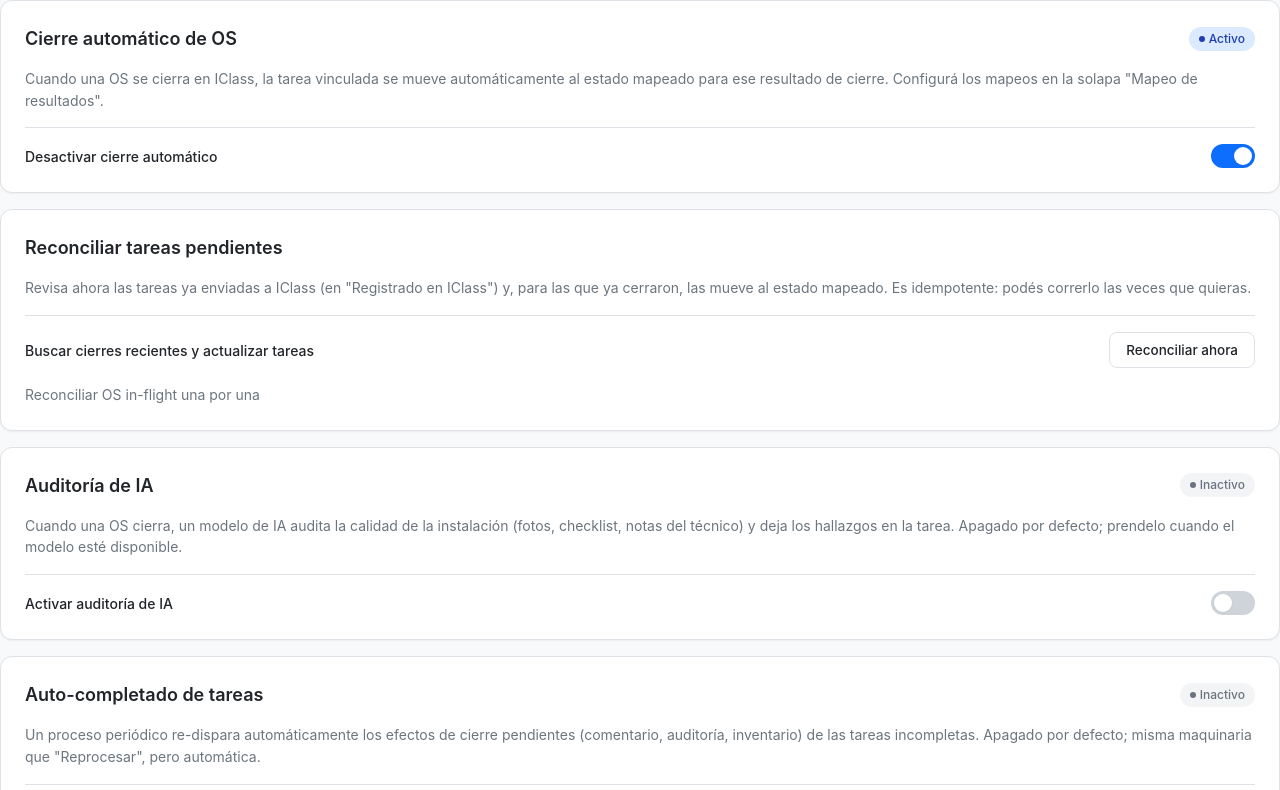
Test case: IClassClosureFlagBody › B1.1 shows "Reconciliación encolada" banner when backfill returns queued:true
The width and height of the screenshot is (1280, 790).
Click the button "Reconciliar ahora": (1182, 350) [1109,332,1255,368]
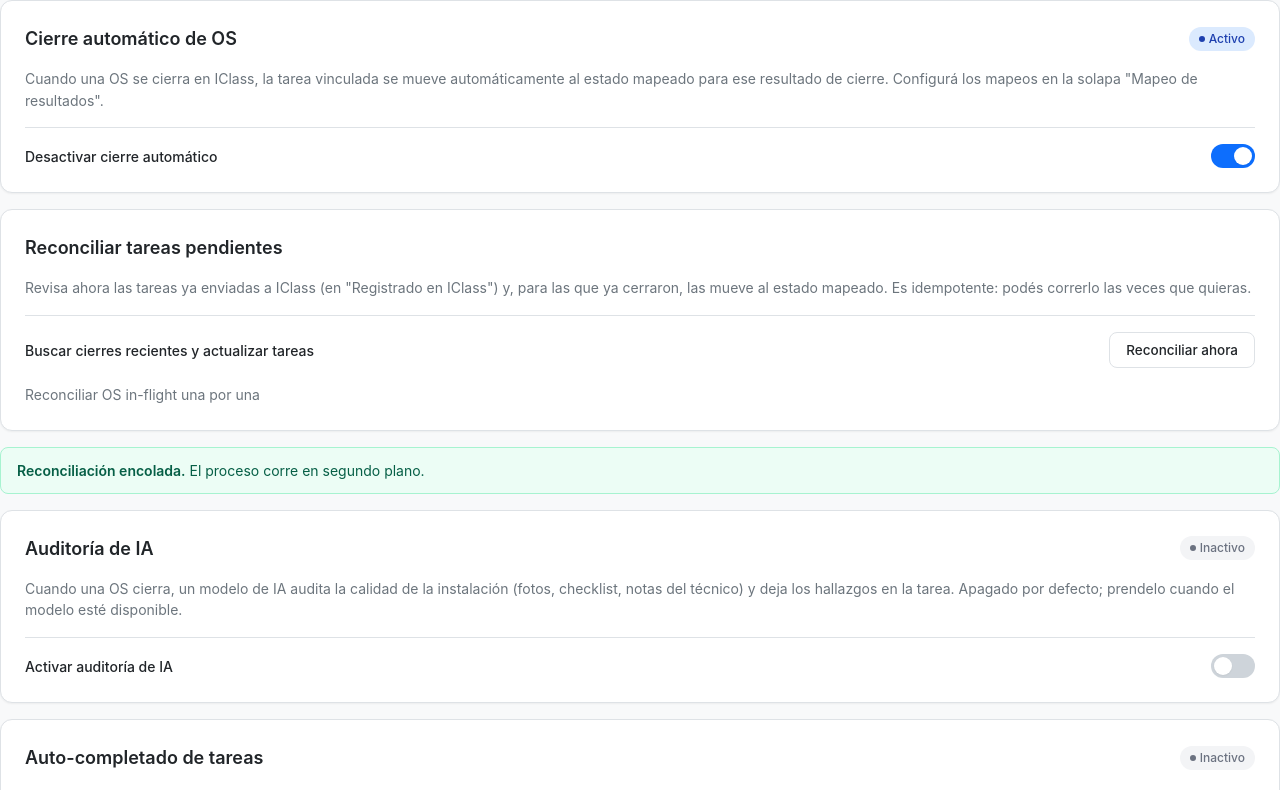
Expected: the text "Reconciliación encolada." is shown, [17,462,186,479]
